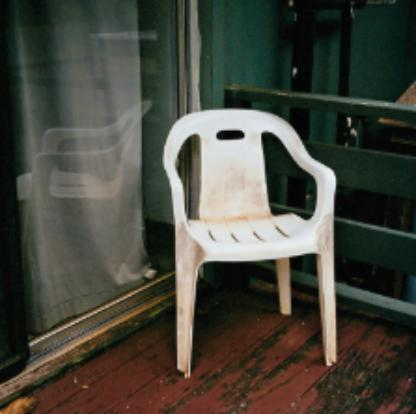chair: (160, 98, 349, 381)
